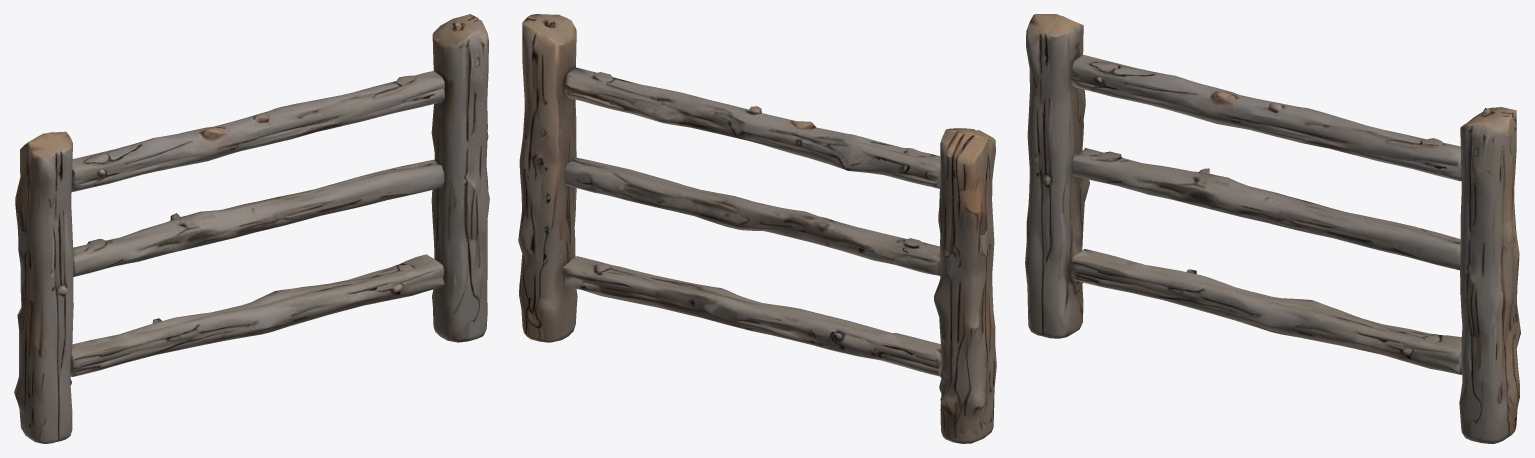
Rendered from fence.glb.
3 views of the same model, side by side, from view 1: azimuth 30°, elevation 25°; view 2: azimuth 150°, elevation 25°; view 3: azimuth 330°, elevation 25° (orthographic). The views are drawn at different scales.
Visible parts, largest first — view 1: FenceBody; view 2: FenceBody; view 3: FenceBody.
Boxes of the visible parts, box(x1,y1,x2,y2) form: FenceBody: box(14, 14, 489, 443); FenceBody: box(518, 14, 996, 443); FenceBody: box(1025, 14, 1520, 443).
Size of the model in its own units: 1.64 by 1.05 by 0.1957.
Materials: 1 (1 with a texture image).
